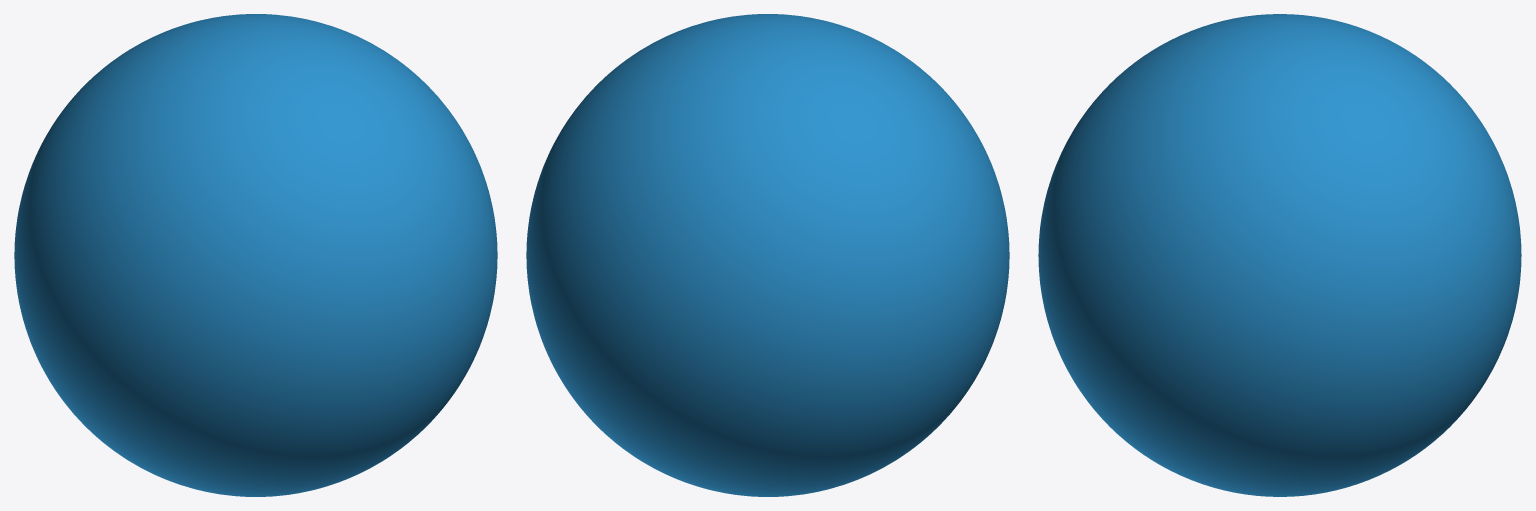
The model's file is Sphere_Smooth.obj.
3 views of the same model, side by side, from view 1: azimuth 30°, elevation 25°; view 2: azimuth 150°, elevation 25°; view 3: azimuth 270°, elevation 25° (orthographic).
Visible parts, largest first — view 1: Cube.003_Cube_Cube.003; view 2: Cube.003_Cube_Cube.003; view 3: Cube.003_Cube_Cube.003.
Part boxes in pixels (left/top/right/bottom): Cube.003_Cube_Cube.003: left=14, top=14, right=497, bottom=496; Cube.003_Cube_Cube.003: left=526, top=14, right=1009, bottom=496; Cube.003_Cube_Cube.003: left=1038, top=14, right=1521, bottom=496.
Bounding box in the file's own units: 1.71 × 1.71 × 1.71.
